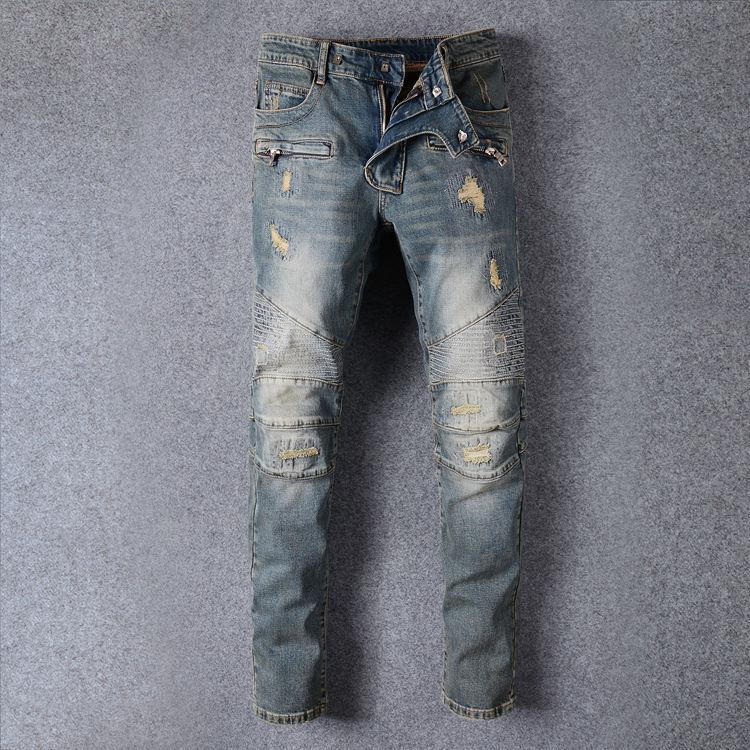jeans: (216, 34, 560, 732)
